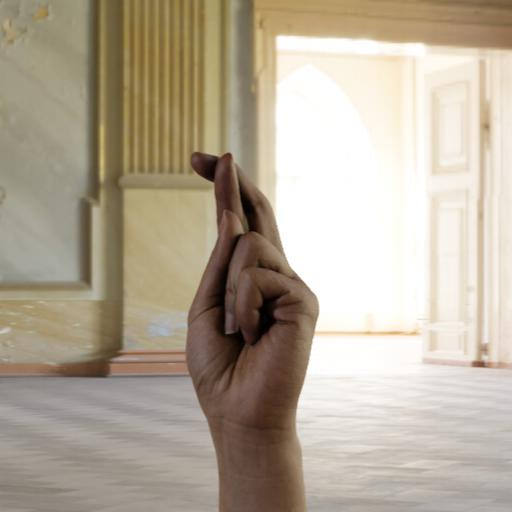R: (160, 130, 326, 433)
